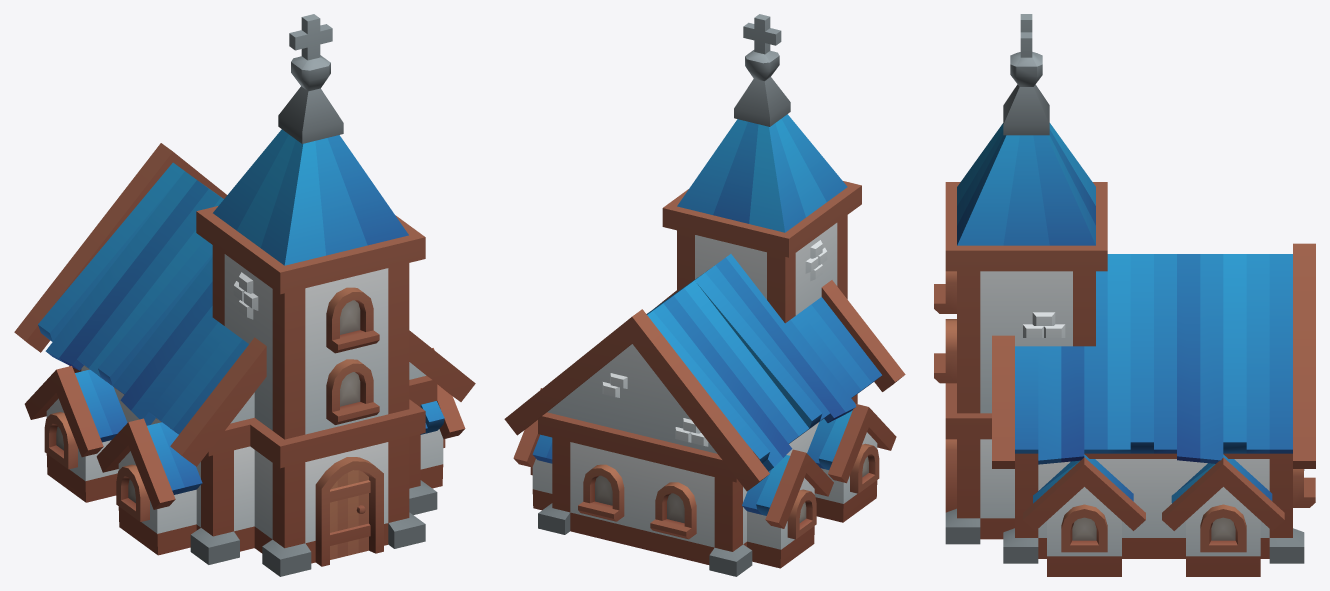
File: building_church_blue.gltf
3 renders of one model, left to right at view 1: azimuth 30°, elevation 25°; view 2: azimuth 150°, elevation 25°; view 3: azimuth 270°, elevation 25°, orthographic. The views are drawn at different scales.
Visible parts, largest first — view 1: building_church_blue; view 2: building_church_blue; view 3: building_church_blue.
Boxes of the visible parts, bbox=[...] form: building_church_blue: bbox=[14, 14, 475, 576]; building_church_blue: bbox=[504, 14, 905, 576]; building_church_blue: bbox=[934, 14, 1315, 576].
Bounding box in the file's own units: 1.03 × 1.65 × 1.15.
1 material, 1 textured.
